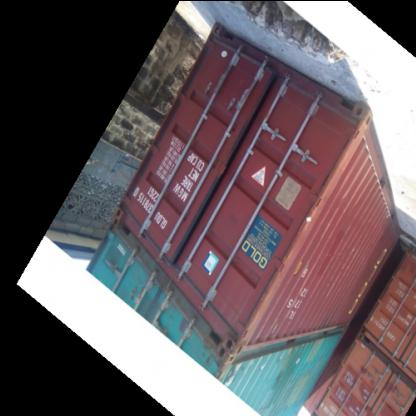Damage: (234, 226, 320, 354)
